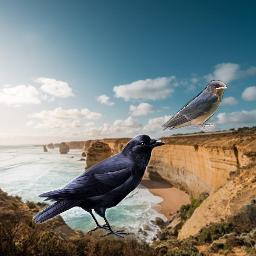Crow: (32, 134, 165, 240)
Swallow: (162, 80, 228, 133)
